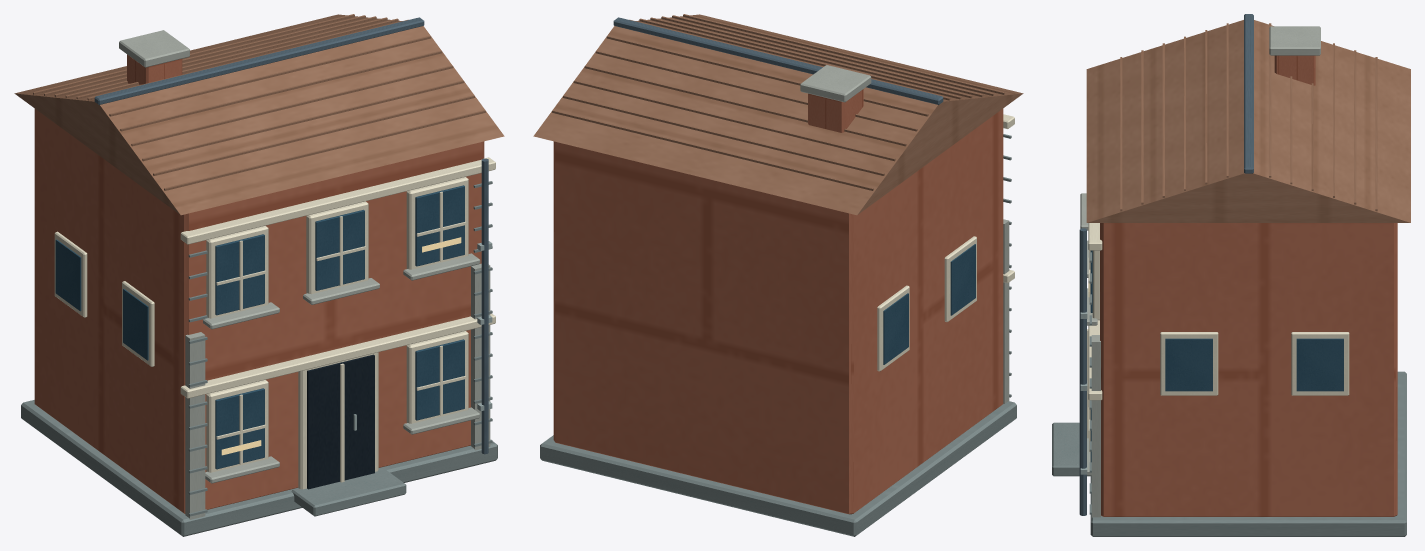
Rendered from row-house-intact.glb.
3 renders of one model, left to right at view 1: azimuth 30°, elevation 25°; view 2: azimuth 150°, elevation 25°; view 3: azimuth 270°, elevation 25°, orthographic. The views are drawn at different scales.
Parts seen in each view (by area): view 1: row-house-intact; view 2: row-house-intact; view 3: row-house-intact.
Part boxes in pixels (x1,y1,x2,y2): row-house-intact: (14,14,504,536); row-house-intact: (533,14,1023,536); row-house-intact: (1052,14,1410,536).
Bounding box in the file's own units: 5.54 × 6.46 × 5.42.
Materials: 4 (4 with a texture image).
